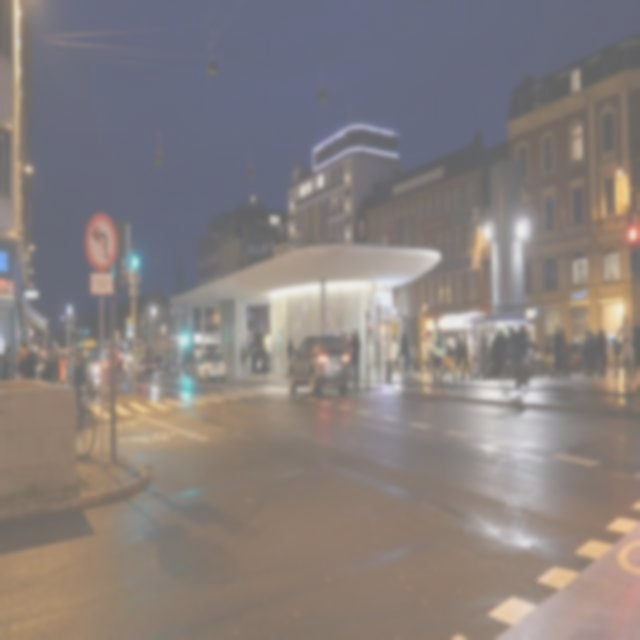pessoa: (610, 313, 636, 391), (37, 340, 88, 367), (507, 322, 528, 387), (395, 326, 413, 398), (430, 314, 446, 392), (582, 328, 602, 378), (554, 325, 570, 380), (491, 326, 508, 376), (451, 332, 466, 384), (596, 328, 610, 379), (458, 334, 472, 384), (550, 324, 562, 380), (16, 333, 30, 380), (630, 314, 639, 386), (69, 363, 86, 396), (514, 322, 524, 378), (341, 330, 353, 374), (478, 328, 488, 380), (24, 341, 38, 378), (352, 326, 362, 376), (42, 349, 54, 384), (0, 343, 11, 381), (50, 349, 61, 387), (351, 334, 358, 389), (58, 348, 68, 386), (250, 345, 262, 375), (286, 334, 294, 378), (240, 341, 248, 379), (520, 322, 528, 360), (570, 337, 583, 359), (262, 343, 268, 381), (161, 355, 171, 373), (544, 336, 550, 363), (157, 350, 162, 374), (173, 349, 177, 374), (446, 342, 452, 358), (533, 340, 539, 353)
